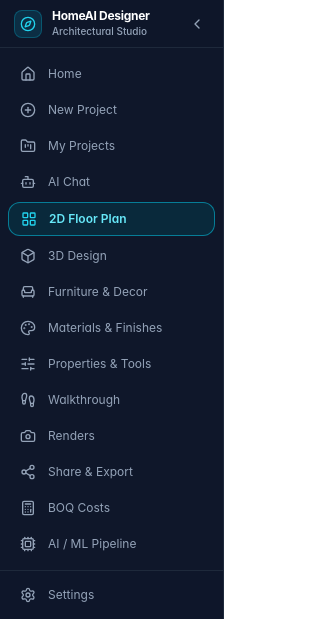
Test: Stage 1.4: Minimalist UI, Beginner-Friendly UX & Consistency › 5. Architectural Shell Nav & Feature Strips › renders ArchitecturalNavSidebar with cohesive slate styling and accessible controls
The width and height of the screenshot is (320, 636).
Expected: the text "HomeAI Designer" is shown, [52,8,150,24]
Expected: the text "Architectural Studio" is shown, [52,24,150,39]
Note: Test sidebar collapse toggle
Step 1. Click the button titled "collapse sidebar" → (197, 24), box [185,12,209,36]
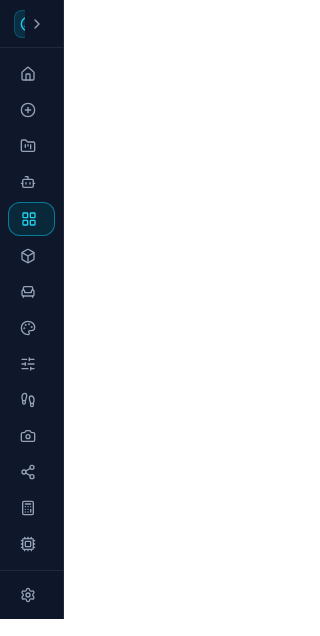
Expected: the button titled "expand sidebar" is shown, [25,12,49,36]
